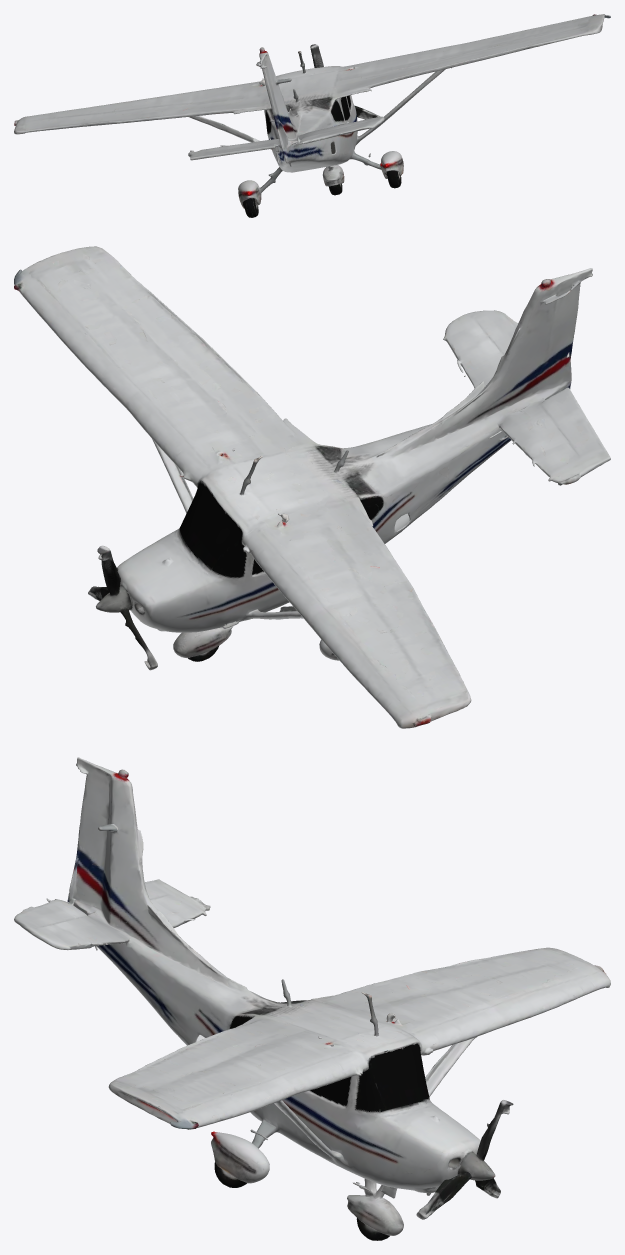
File: pixal3d.glb
The picture shows the model from 3 angles, top to bottom: view 1: azimuth 30°, elevation 25°; view 2: azimuth 150°, elevation 25°; view 3: azimuth 270°, elevation 25°; orthographic projection. The views are drawn at different scales.
Parts seen in each view (by area): view 1: world; view 2: world; view 3: world.
Boxes of the visible parts, x1,y1,x2,y2 form: world: (14,14,610,217); world: (14,246,610,728); world: (14,757,610,1240).
Size of the model in its own units: 0.8297 by 0.4327 by 0.6541.
Materials: 1 (1 with a texture image).
